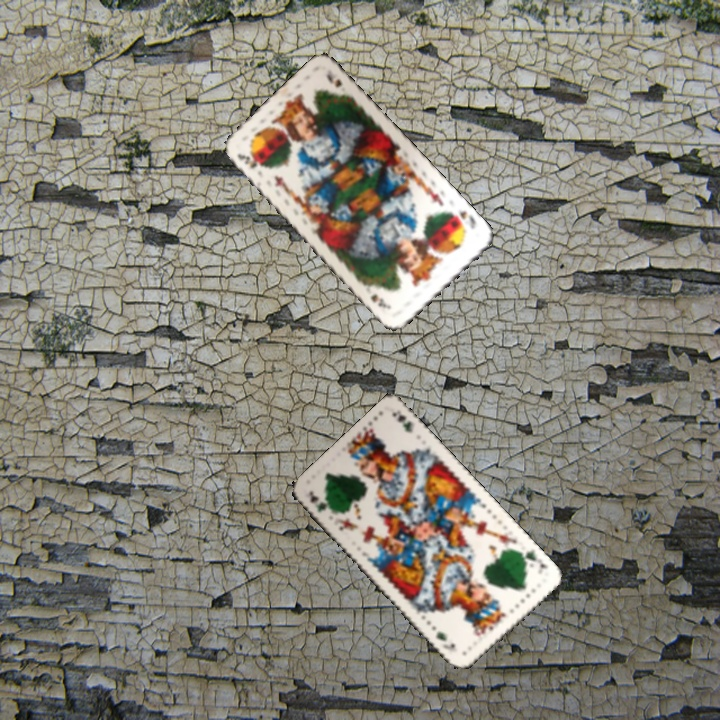GK: (516, 546, 551, 571), (305, 487, 330, 515)
SK: (446, 206, 479, 234), (233, 149, 260, 171)
